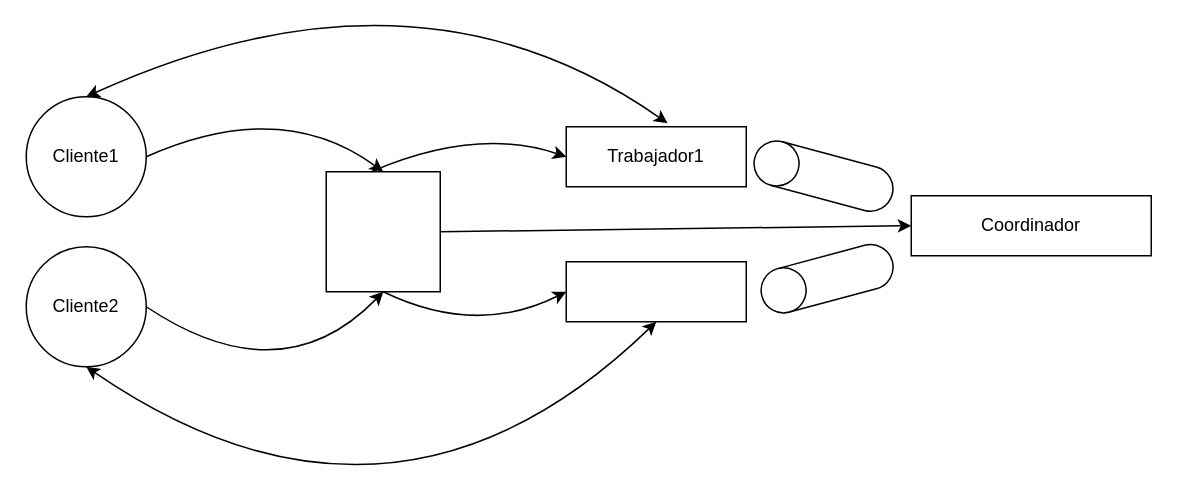
This 1178x492 diagram has some shape labels left out. The shapes that lost their labels are listed below. From the top down, each one's box as (x1, y1, x2, y2) in pixels, then its label:
(325, 170, 440, 292): Servidor
(565, 260, 746, 322): Trabajador2
